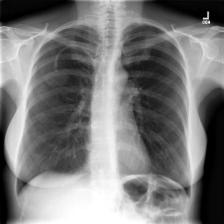normal: (13, 18, 194, 206)
